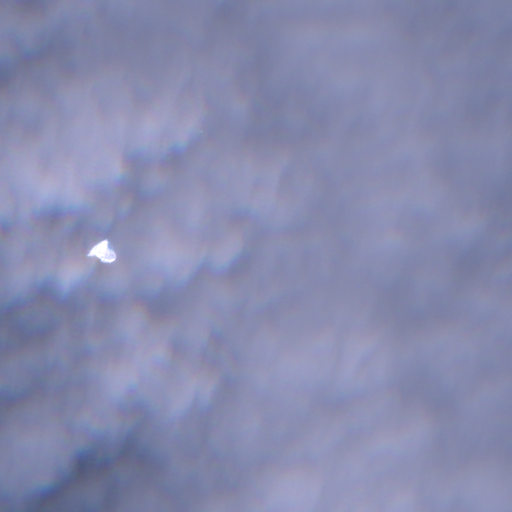Iceberg: (87, 239, 116, 262)
